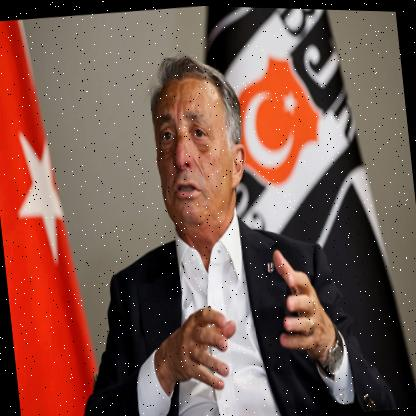person: (138, 50, 258, 251)
